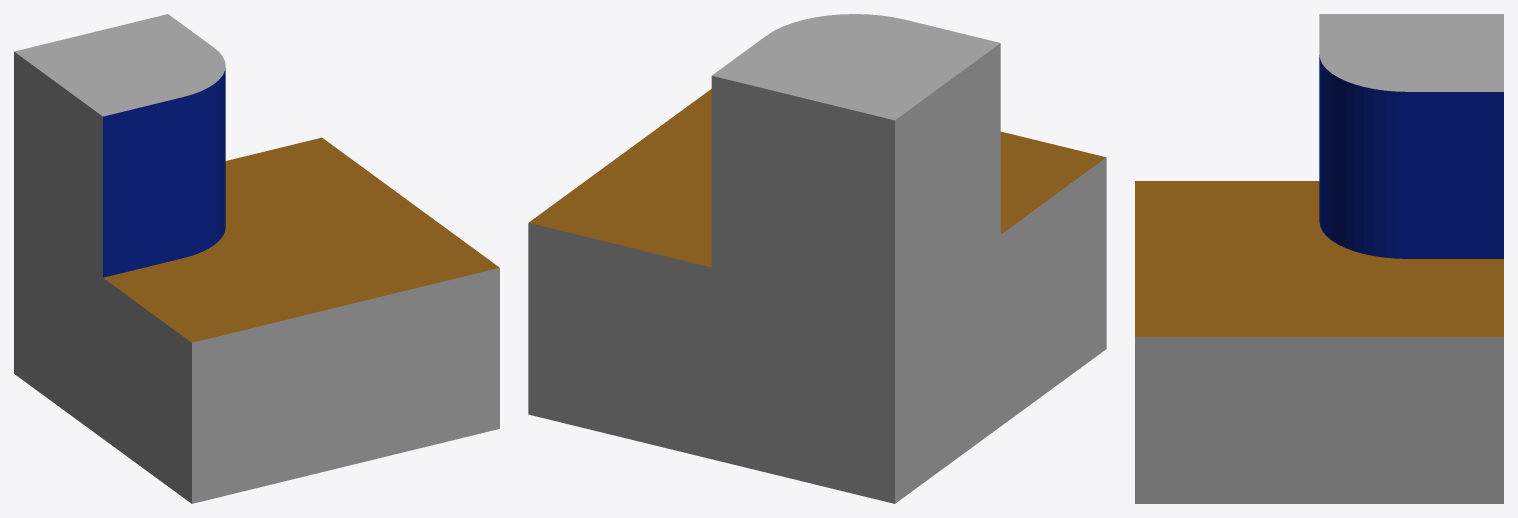
File: case_31.fbx
3 renders of one model, left to right at view 1: azimuth 30°, elevation 25°; view 2: azimuth 150°, elevation 25°; view 3: azimuth 270°, elevation 25°, orthographic. The views are drawn at different scales.
Visible parts, largest first — view 1: case_31; view 2: case_31; view 3: case_31.
Boxes of the visible parts, x1=… form: case_31: x1=14, y1=14, x2=499, y2=503; case_31: x1=528, y1=14, x2=1106, y2=503; case_31: x1=1135, y1=14, x2=1503, y2=503.
Size of the model in its own units: 1 by 1 by 1.
